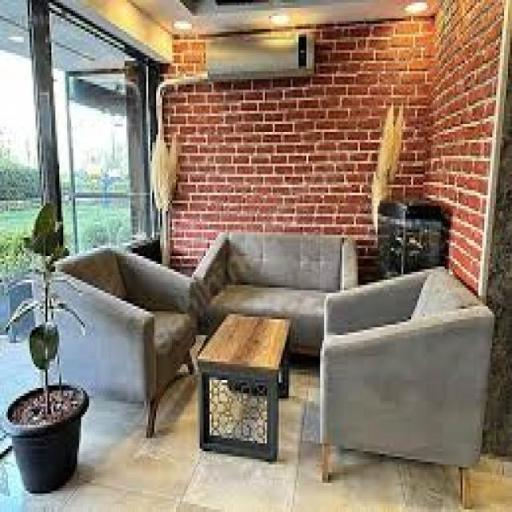sofa: (38, 232, 212, 454), (325, 275, 512, 479)
